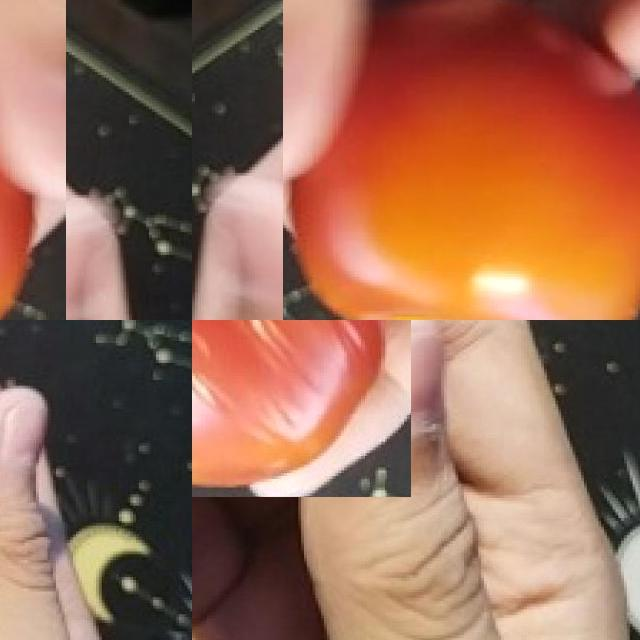Fresh Tomato: (283, 0, 640, 320), (0, 0, 66, 320)
Rotten Tomato: (192, 320, 411, 497)
